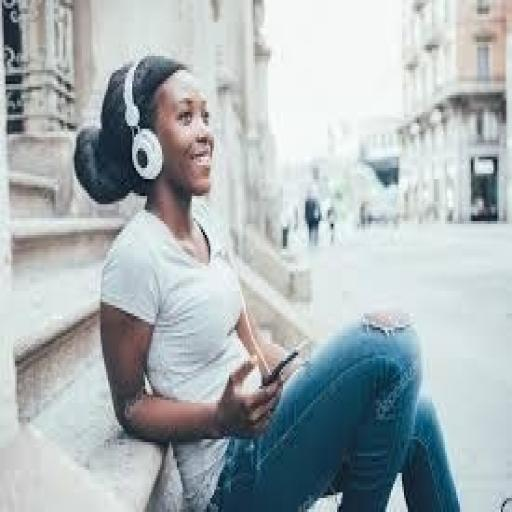listening_to_music: (72, 50, 464, 510)
